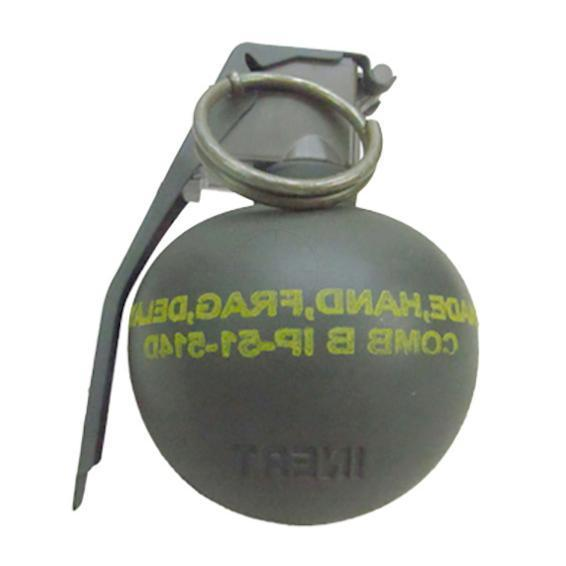Grenade: (70, 41, 479, 527)
